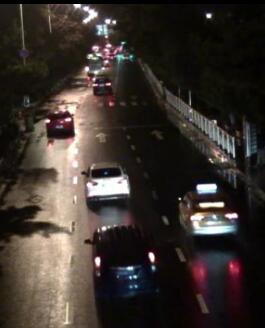car: (82, 224, 164, 310), (176, 183, 238, 237), (81, 163, 134, 206), (43, 108, 75, 136), (92, 74, 111, 92)
